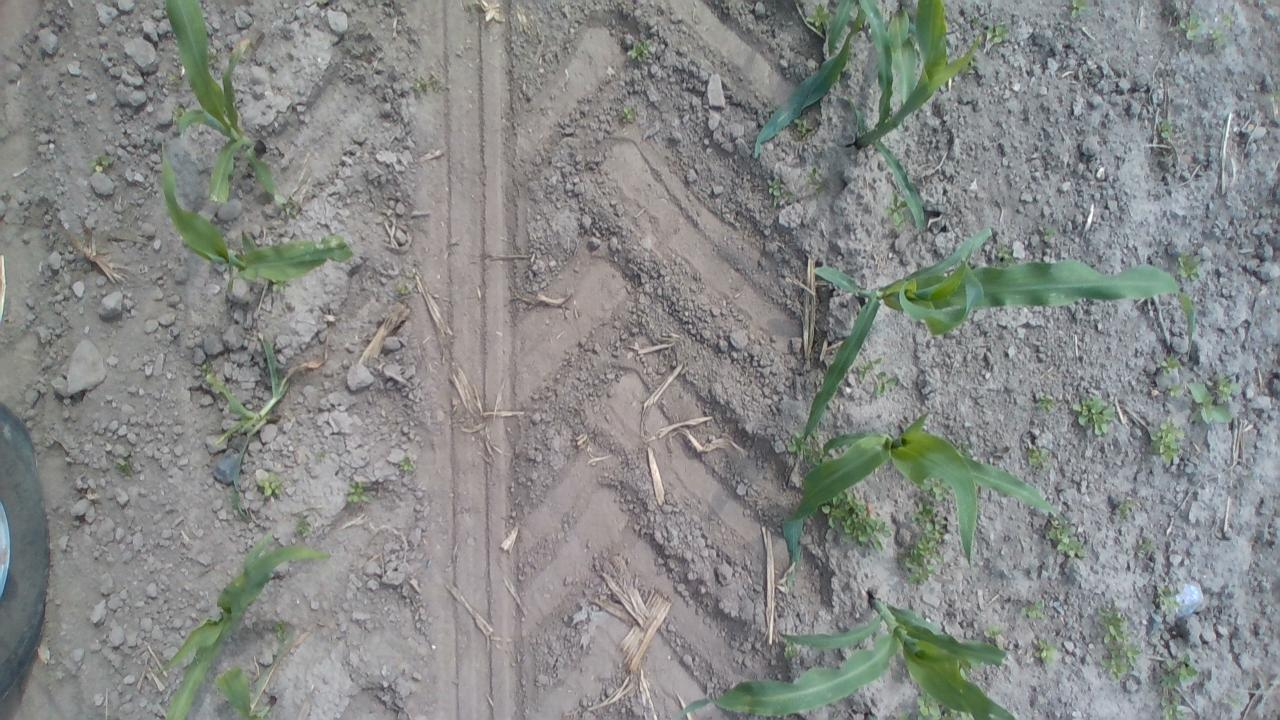Maize: (793, 232, 1201, 446), (760, 414, 1064, 578), (666, 590, 1044, 720), (841, 0, 985, 242), (154, 536, 327, 720), (151, 140, 362, 288), (144, 0, 288, 215), (751, 3, 880, 164), (208, 667, 286, 720)
Weeds: (896, 478, 956, 587), (819, 485, 892, 556), (1094, 601, 1143, 684), (1154, 654, 1202, 720), (1066, 390, 1120, 438), (1186, 380, 1236, 426), (856, 354, 898, 404), (1044, 515, 1086, 561), (1144, 421, 1186, 465), (910, 692, 970, 720), (787, 432, 827, 470), (1018, 438, 1058, 476), (1152, 348, 1186, 382), (256, 470, 292, 500), (881, 191, 910, 228), (1172, 250, 1206, 281), (624, 37, 660, 65), (1030, 637, 1062, 668), (292, 512, 320, 547), (1174, 10, 1206, 40), (344, 476, 371, 510), (1152, 586, 1180, 618), (799, 168, 836, 192), (1108, 492, 1136, 522), (412, 70, 448, 93), (980, 622, 1014, 646), (988, 238, 1016, 266), (762, 173, 790, 201), (1214, 373, 1241, 401), (86, 150, 114, 176), (1138, 532, 1162, 561), (1166, 382, 1197, 404), (984, 16, 1004, 50), (618, 100, 642, 127), (270, 626, 292, 655), (1150, 118, 1176, 142), (396, 452, 420, 478), (788, 118, 819, 138), (802, 3, 828, 26), (1021, 600, 1048, 622), (1063, 0, 1092, 20), (1202, 28, 1226, 52), (112, 455, 137, 478), (392, 276, 416, 299), (1036, 390, 1056, 416), (268, 277, 292, 297), (1266, 83, 1280, 116), (1034, 222, 1058, 241), (780, 641, 800, 660), (1216, 11, 1235, 31)
